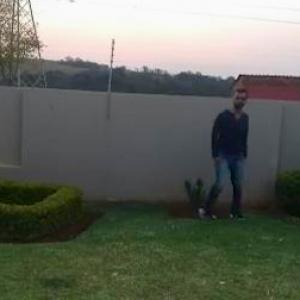follow: (199, 86, 258, 219)
